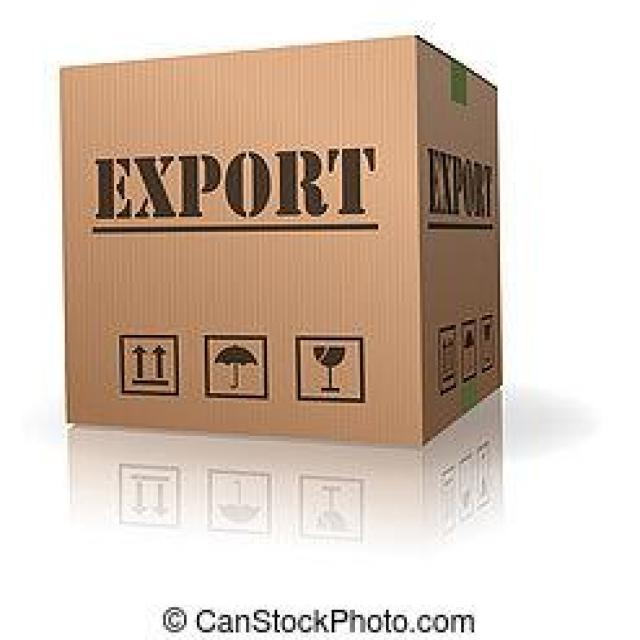box: (46, 32, 516, 447)
